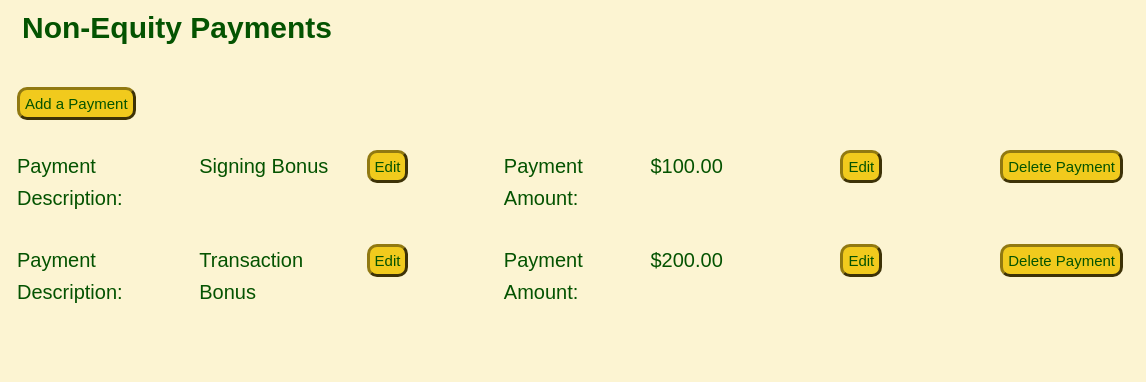
Test: should show Add Button and add a third payment
Click the button "Add a Payment".
click(76, 104)  # box left=17, top=87, right=136, bottom=120
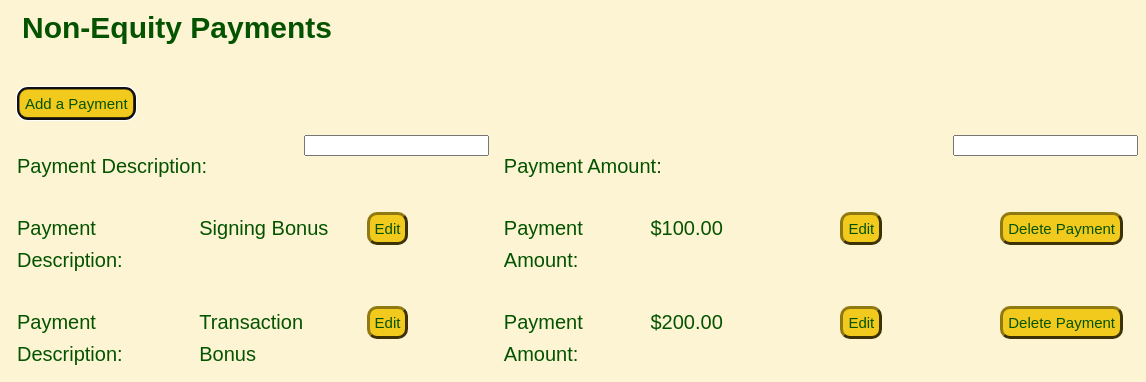
expect the number of fields is 2: met, box left=304, top=135, right=489, bottom=156; left=953, top=135, right=1138, bottom=156
